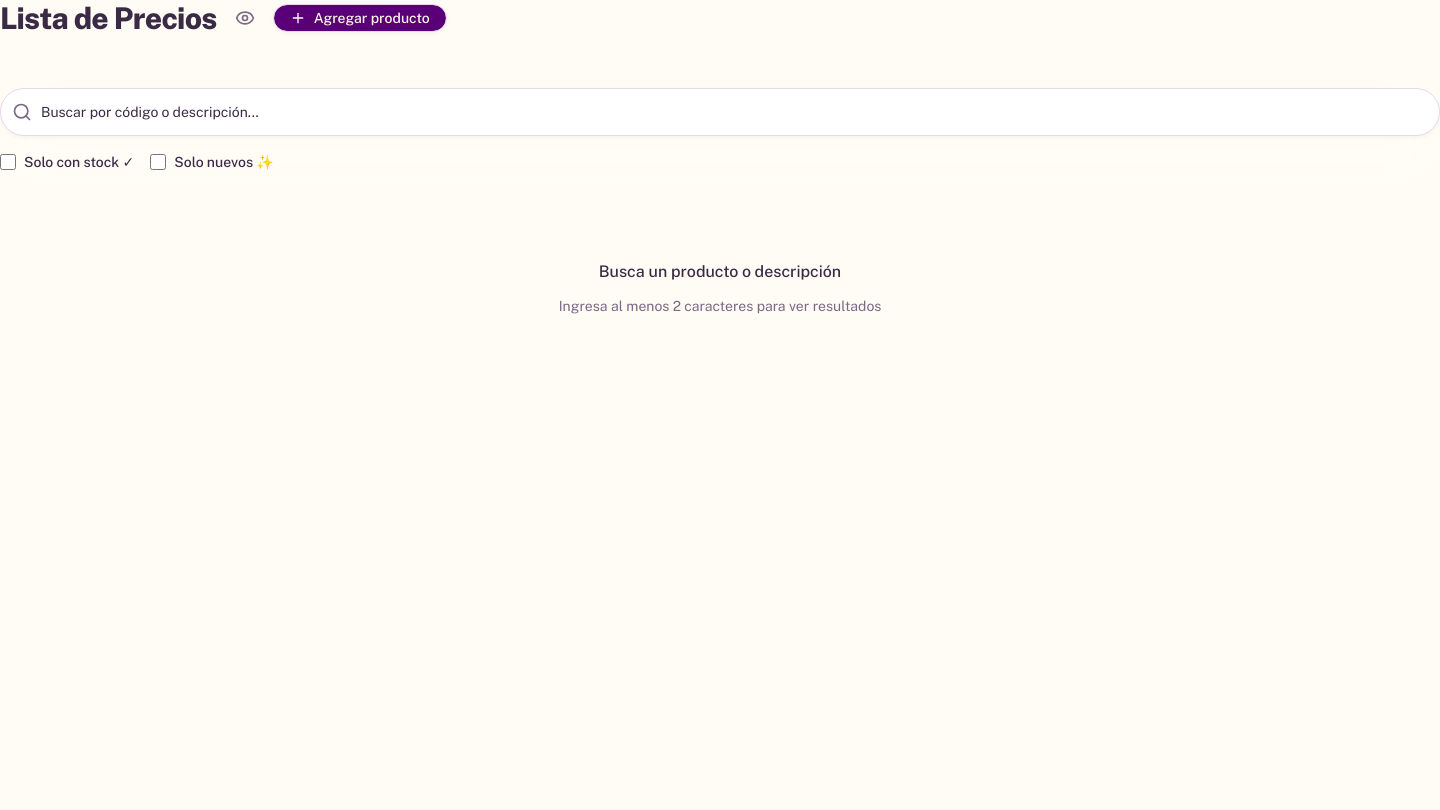
Test: PreciosClient — dialogo Nuevo producto › campos directos y ganancias en vivo; sin % de ganancia
Click the button "Agregar producto": x=360, y=18 x1=273 y1=4 x2=447 y2=32
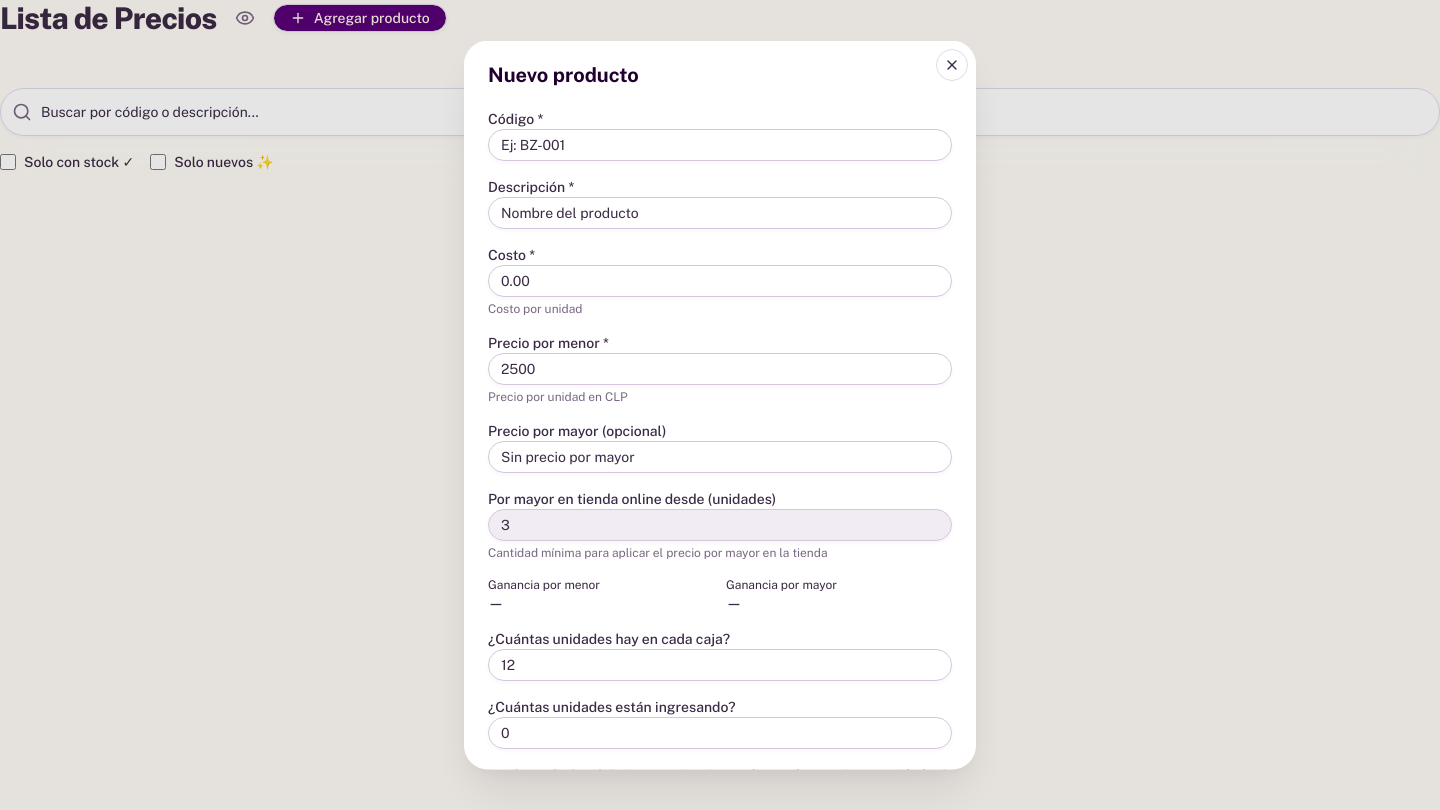
Expected: the number field with test id "crear-prcventa" is shown, x1=488 y1=352 x2=952 y2=384
Expected: the number field with test id "crear-precio-mayor" is shown, x1=488 y1=440 x2=952 y2=472
Expected: the number field with test id "crear-minimo-mayor" is shown, x1=488 y1=508 x2=952 y2=540
In the number field with test id "crear-costo": x=720, y=280 x1=488 y1=264 x2=952 y2=296, type "100"
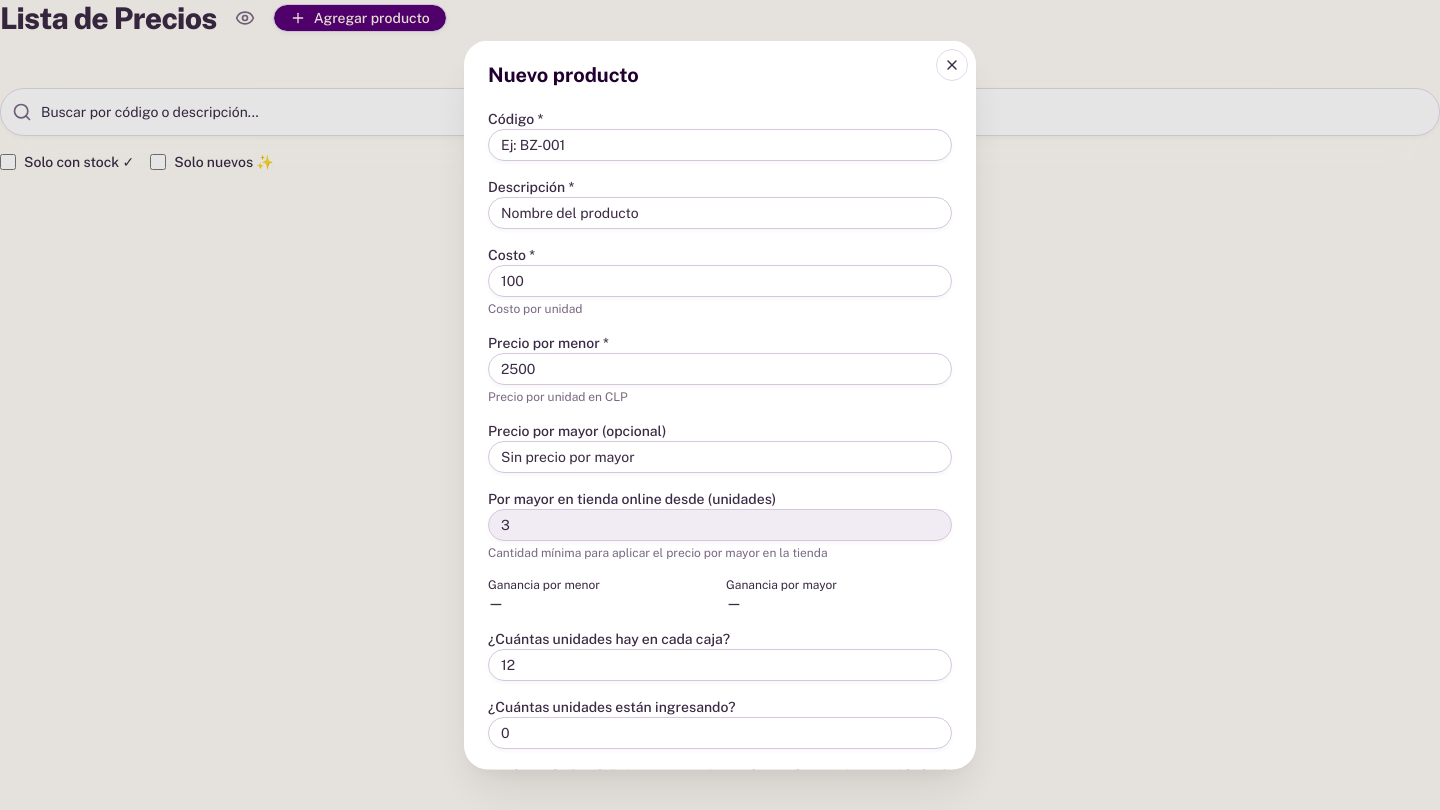
In the number field with test id "crear-prcventa": x=720, y=368 x1=488 y1=352 x2=952 y2=384, type "150"
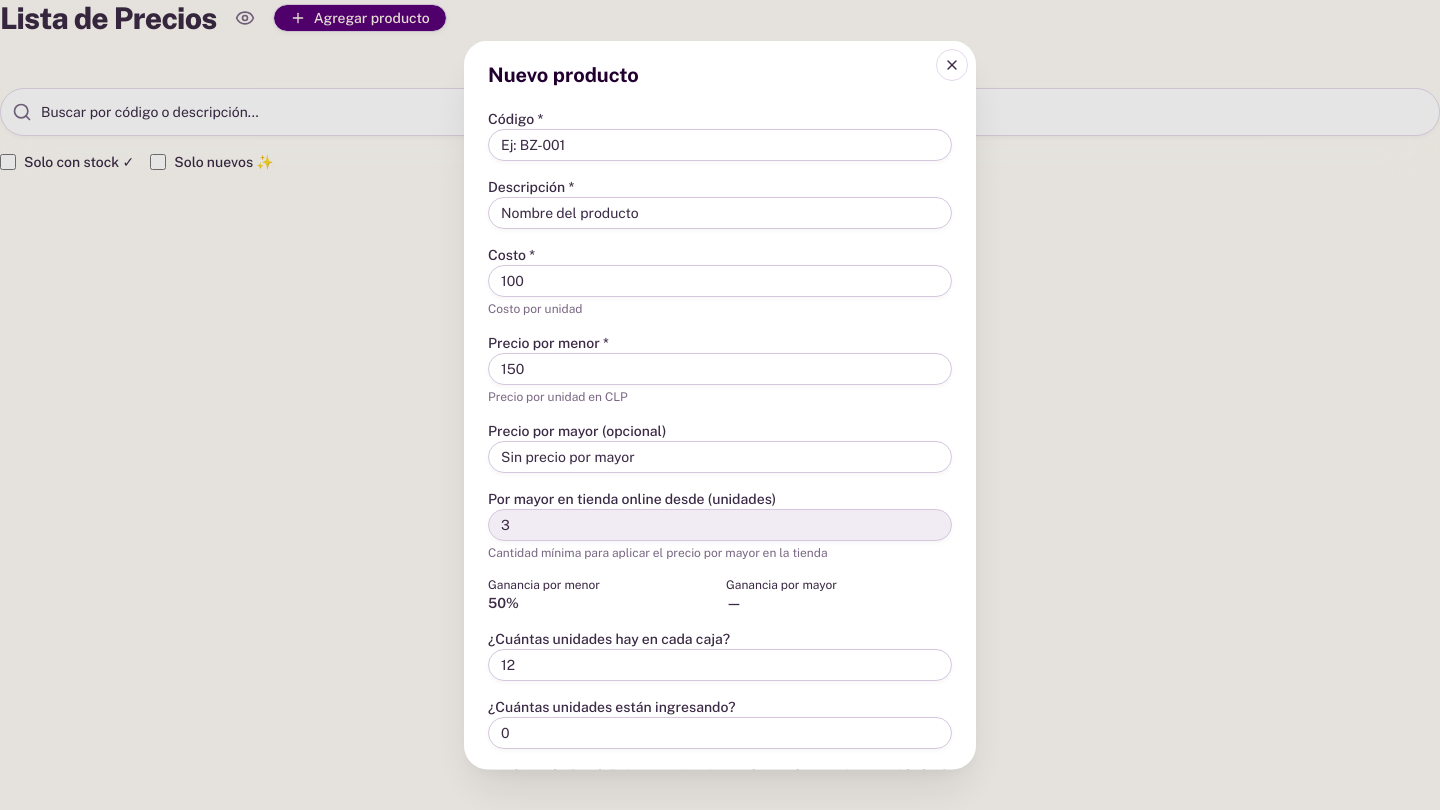
Expected: the text with test id "ganancia-detalle" reads "50%", x1=488 y1=594 x2=519 y2=610
In the number field with test id "crear-precio-mayor": x=720, y=456 x1=488 y1=440 x2=952 y2=472, type "120"
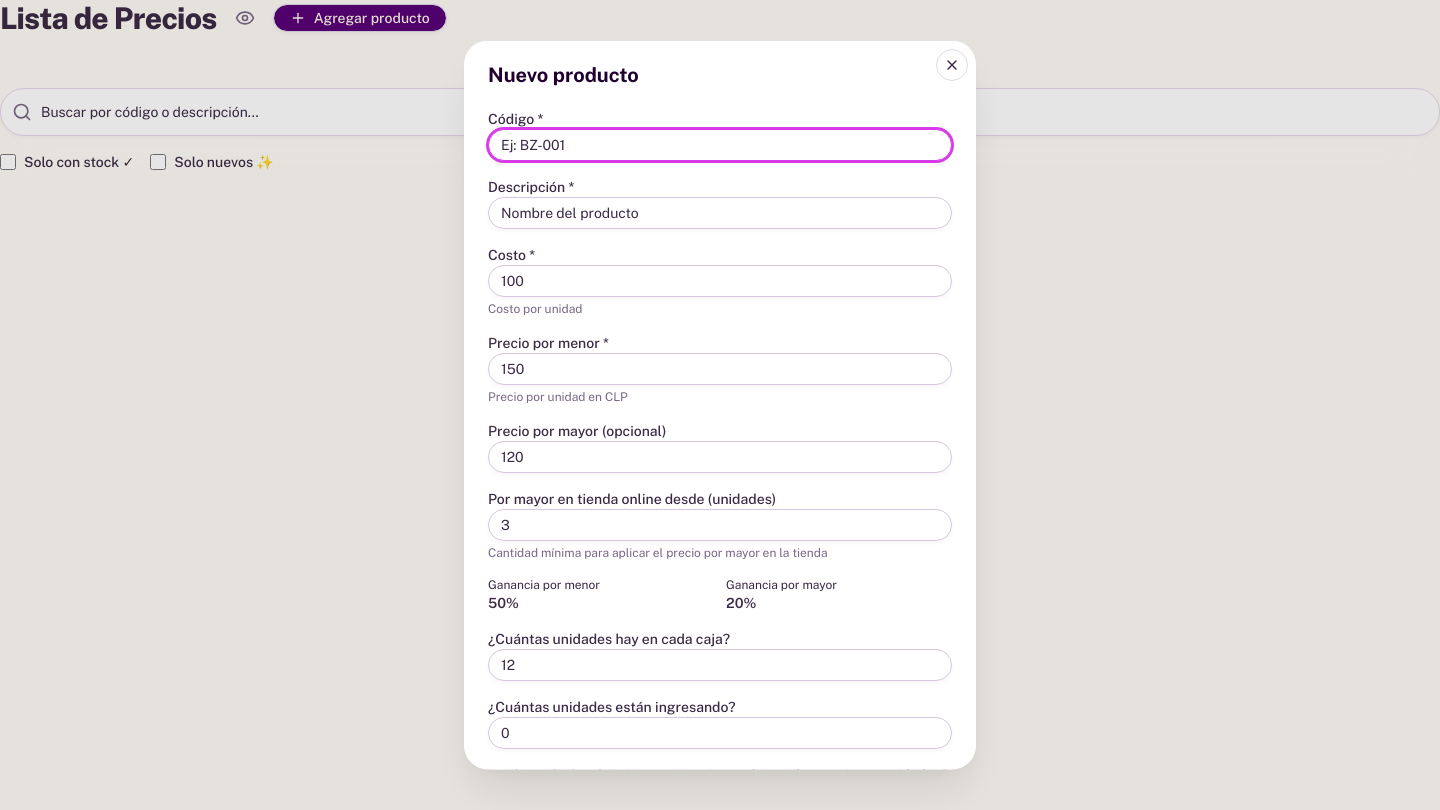
Expected: the text with test id "ganancia-mayor" reads "20%", x1=726 y1=594 x2=756 y2=610
